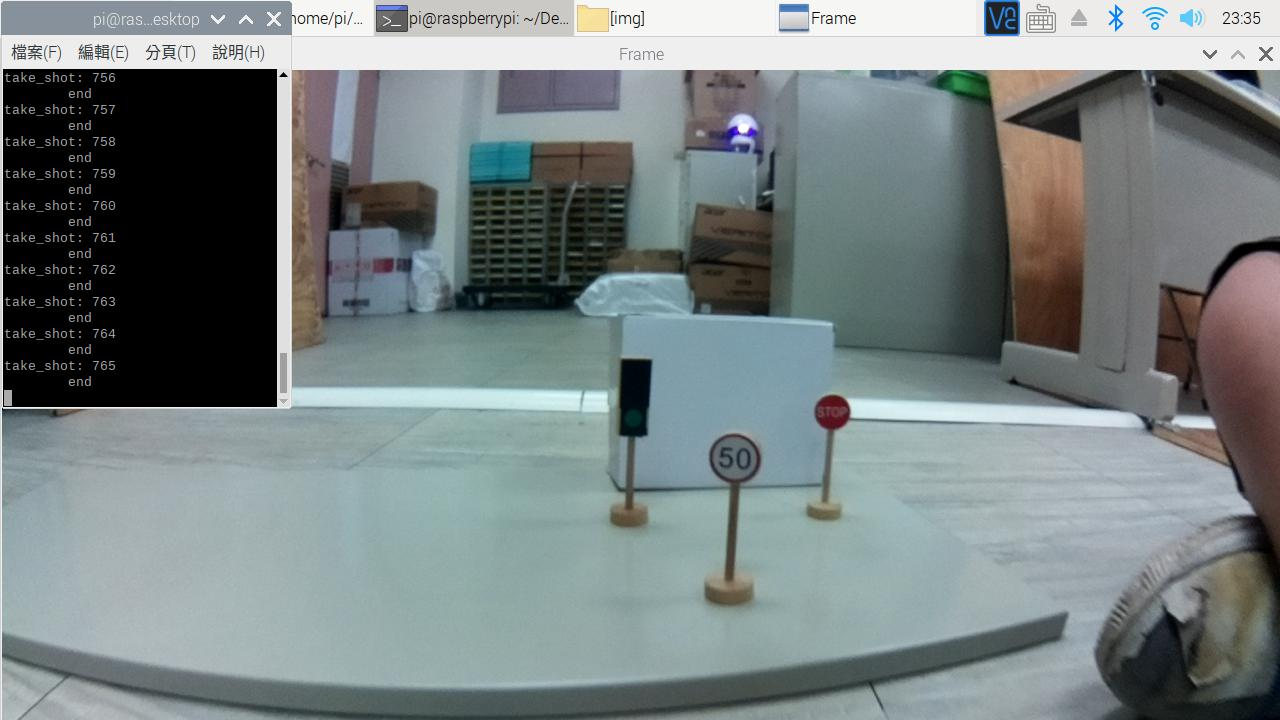Green: (613, 353, 666, 447)
Speed50: (698, 425, 774, 490)
Stop: (805, 388, 873, 436)
